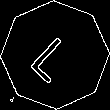L_NE: (26, 26, 84, 84)
